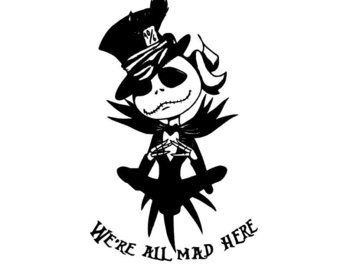Jack Skellington: (99, 1, 240, 253)
